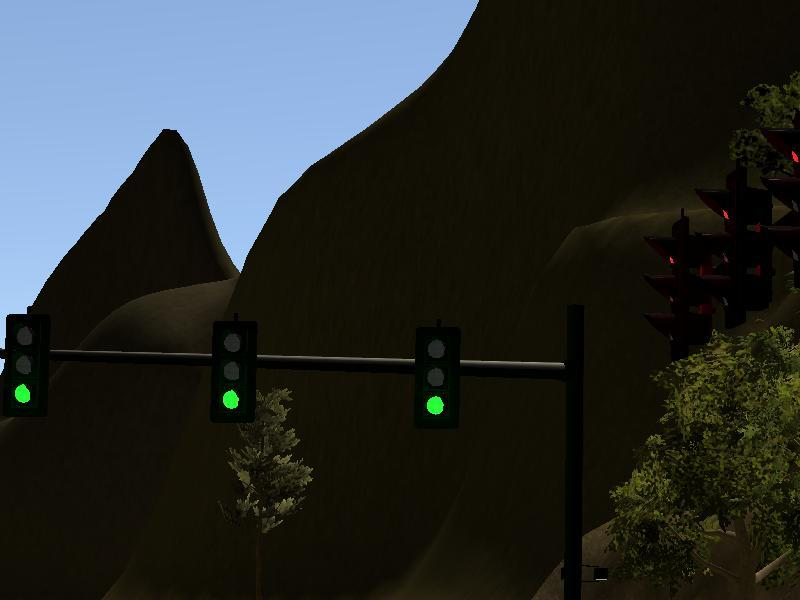Green: (414, 327, 460, 429), (210, 322, 256, 423), (5, 313, 49, 418)
